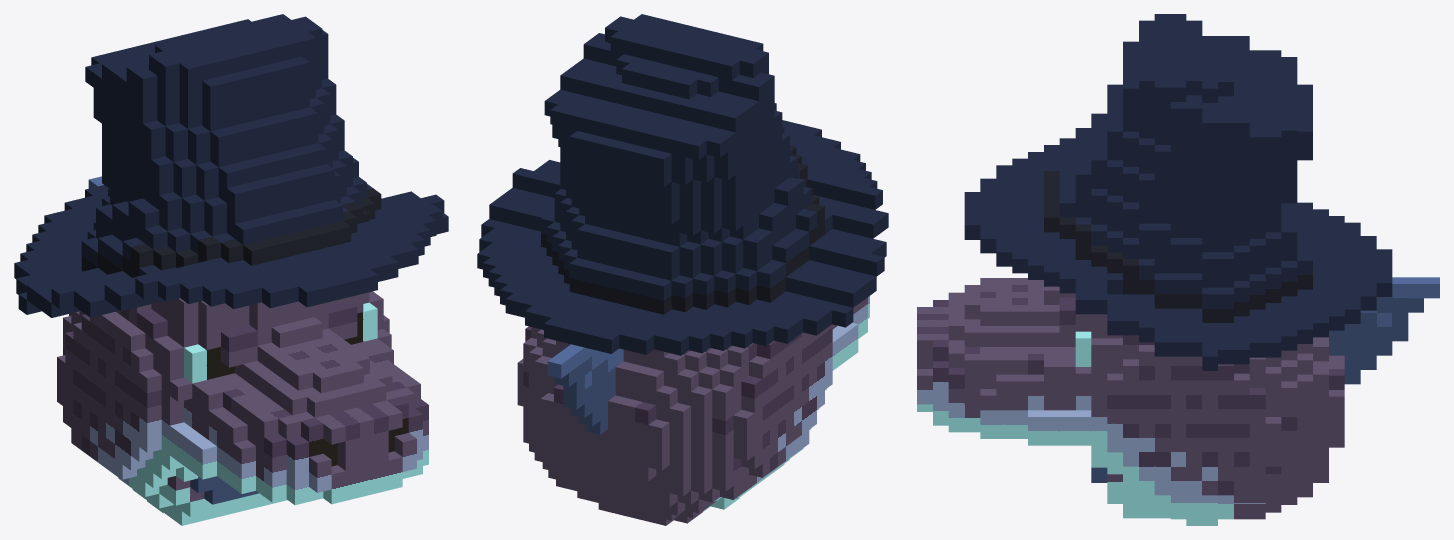
Rendered from top hat_rainbow spectacles.gltf.
3 renders of one model, left to right at view 1: azimuth 30°, elevation 25°; view 2: azimuth 150°, elevation 25°; view 3: azimuth 270°, elevation 25°, orthographic. The views are drawn at different scales.
Parts seen in each view (by area): view 1: C54_H_TopH_RedG_RBSpec_SkyD_LazerL-Mesh; view 2: C54_H_TopH_RedG_RBSpec_SkyD_LazerL-Mesh; view 3: C54_H_TopH_RedG_RBSpec_SkyD_LazerL-Mesh.
Part boxes in pixels (left/top/right/bottom): C54_H_TopH_RedG_RBSpec_SkyD_LazerL-Mesh: left=14, top=14, right=448, bottom=525; C54_H_TopH_RedG_RBSpec_SkyD_LazerL-Mesh: left=477, top=14, right=888, bottom=525; C54_H_TopH_RedG_RBSpec_SkyD_LazerL-Mesh: left=917, top=14, right=1439, bottom=525.
Bounding box in the file's own units: 27 × 31 × 33.
Materials: 1 (1 with a texture image).
